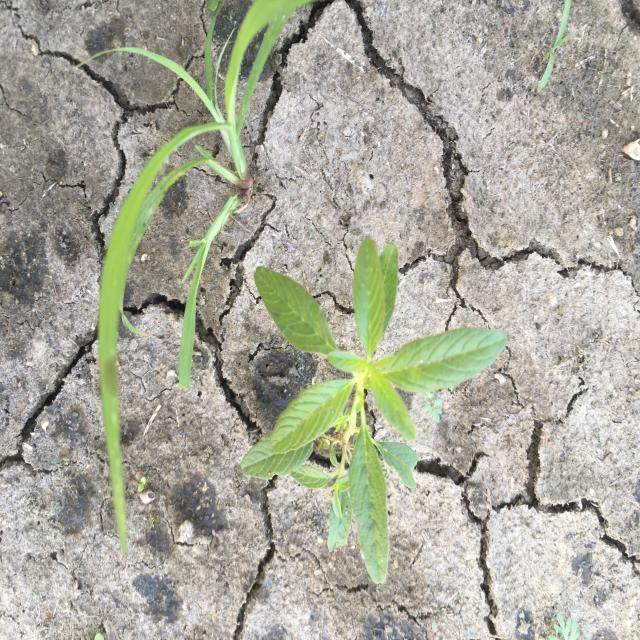Goosegrass: (71, 0, 312, 558)
Waterhemp: (238, 236, 511, 590)
